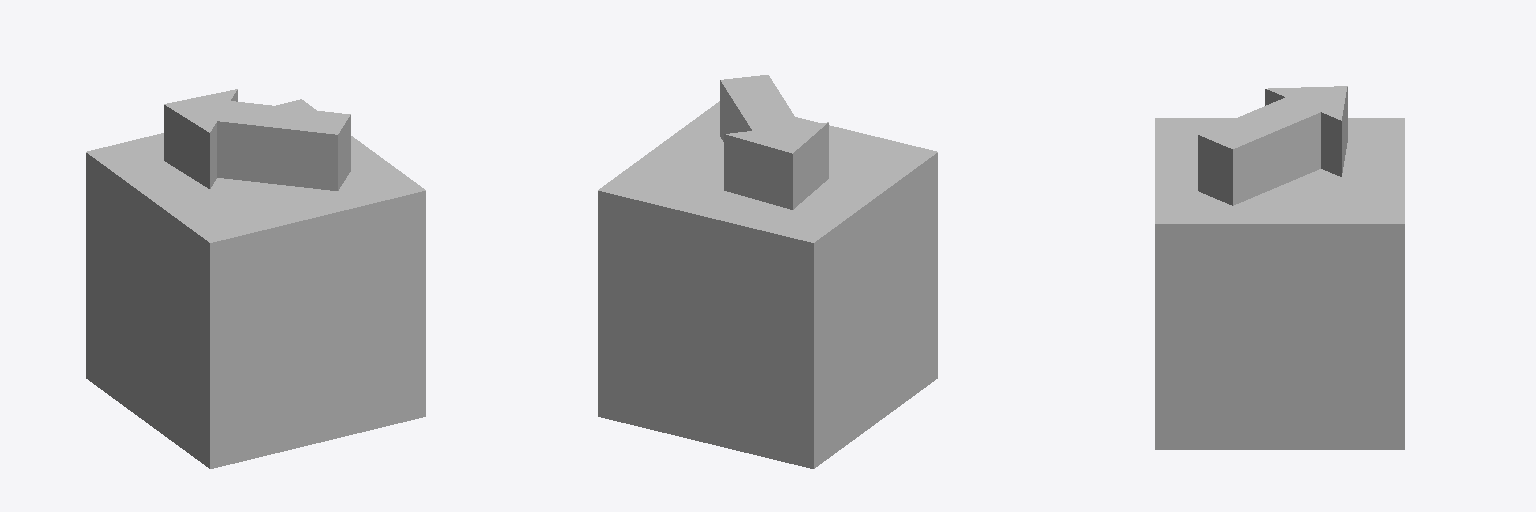
The model's file is Arrow_cube_cap_rotated45.obj.
The picture shows the model from 3 angles: view 1: azimuth 30°, elevation 25°; view 2: azimuth 150°, elevation 25°; view 3: azimuth 270°, elevation 25°; orthographic projection.
Parts seen in each view (by area): view 1: Cap_Cube.006; view 2: Cap_Cube.006; view 3: Cap_Cube.006.
Boxes of the visible parts, x1=… form: Cap_Cube.006: x1=86, y1=89, x2=425, y2=468; Cap_Cube.006: x1=598, y1=75, x2=937, y2=468; Cap_Cube.006: x1=1155, y1=86, x2=1404, y2=449.
Bounding box in the file's own units: 0.08 × 0.1 × 0.08.